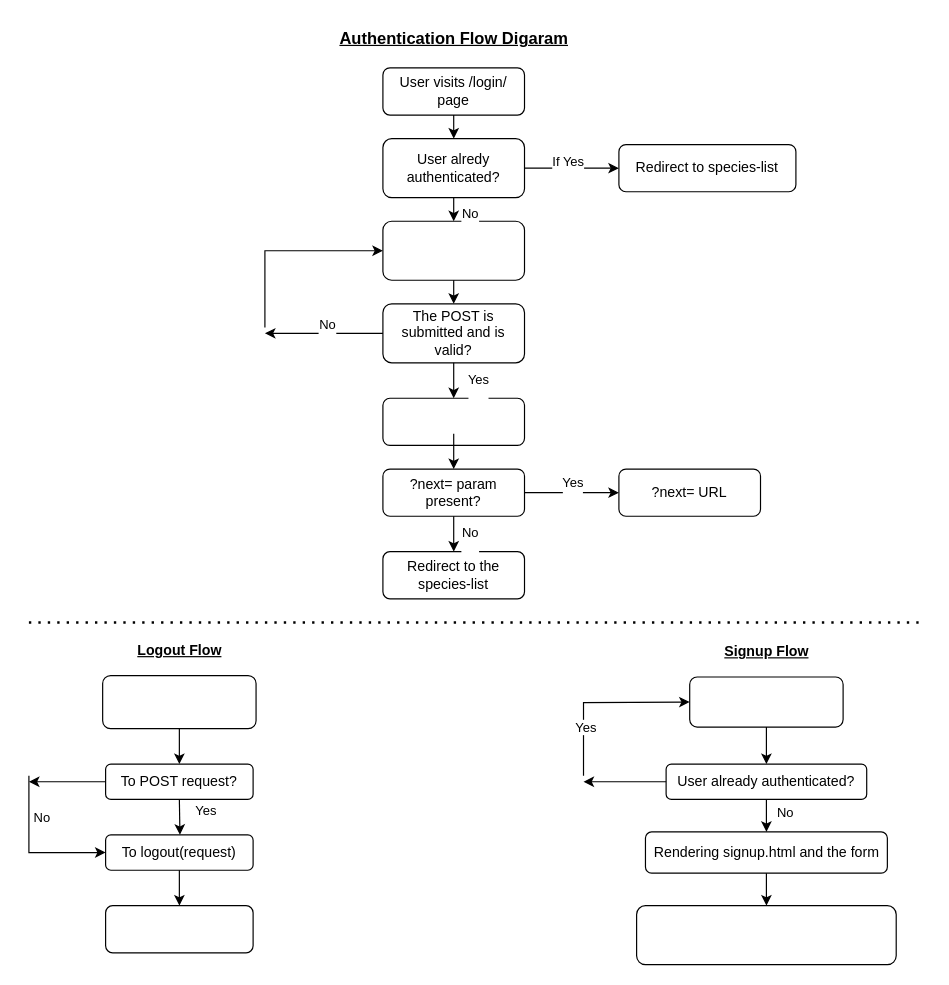
Image size: 949x985. Some labels were removed from this diagram. Here are the shapes that lost their labels. From the top down, the box of each, then its label:
(382, 220, 525, 280): Rendering login.html and the form
(382, 397, 525, 445): Login (request, user)
(101, 674, 256, 729): The user visits /logout/
(689, 676, 843, 727): The user visits /signup/
(104, 904, 253, 953): Rendering logout.html
(635, 904, 896, 965): Save the user to login() to species-list
